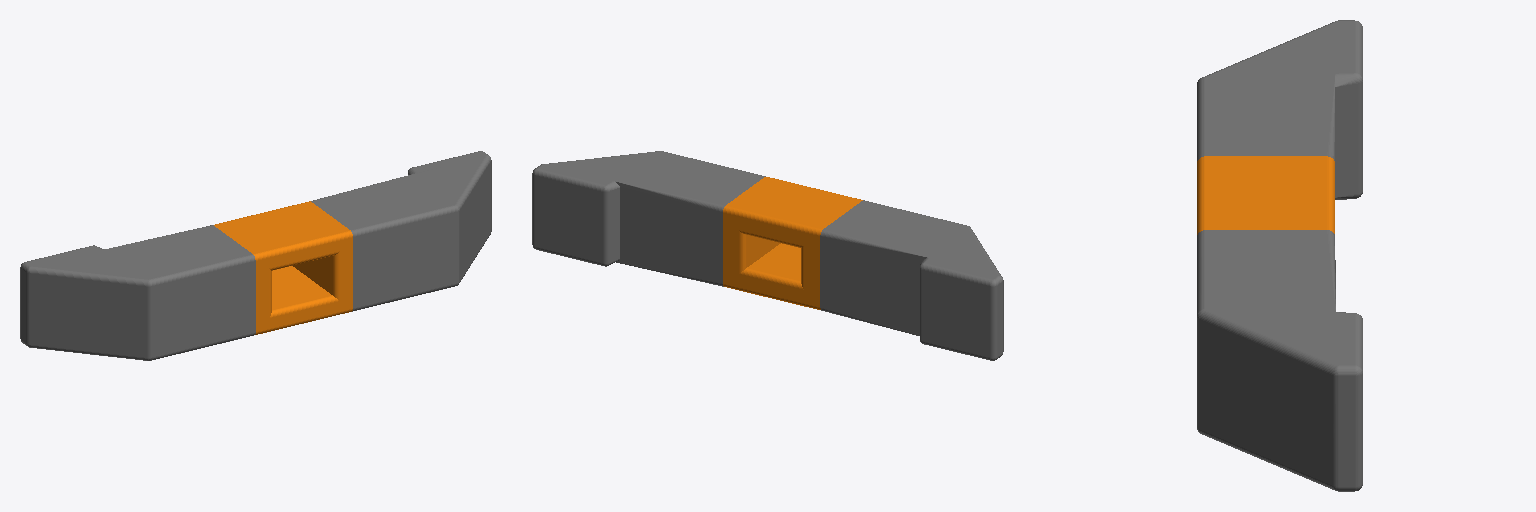
robot.urdf — beam_3x_0_sdf_hybrid_matchedmass:
<?xml version="1.0" encoding="utf-8"?>
<robot name="beam_3x_0_sdf_hybrid_matchedmass">
  <link name="base_link">
    <inertial>
      <!-- measured: 85.98 g -->
      <mass value="0.085980"/>
      <origin xyz="-0.000000 -0.000698 -0.000000" rpy="0 0 0"/>
      <inertia ixx="2.311025e-05" ixy="-4.274376e-12" ixz="-9.955234e-11" iyy="3.401606e-04" iyz="-9.553174e-13" izz="3.414929e-04"/>
    </inertial>
  </link>
  <material name="tip">
    <color rgba="0.95 0.55 0.10 1.0"/>
  </material>
  <material name="body">
    <color rgba="0.50 0.50 0.50 1.0"/>
  </material>
  <link name="tip_link">
    <visual>
      <origin xyz="0.000000 0.000000 0.000000" rpy="0.000000 0.000000 0.000000"/>
      <geometry>
        <mesh filename="0_tip.obj" scale="1 1 1"/>
      </geometry>
      <material name="tip"/>
    </visual>
    <collision>
      <origin xyz="0.000000 0.000000 0.000000" rpy="0.000000 0.000000 0.000000"/>
      <geometry>
        <mesh filename="0_tip.obj" scale="1 1 1"/>
      </geometry>
      <sdf resolution="256"/>
    </collision>
  </link>
  <joint name="base_to_tip" type="fixed">
    <parent link="base_link"/>
    <child link="tip_link"/>
    <origin xyz="0 0 0" rpy="0 0 0"/>
  </joint>
  <link name="body_link">
    <visual>
      <origin xyz="0.000000 0.000000 0.000000" rpy="0.000000 0.000000 0.000000"/>
      <geometry>
        <mesh filename="coacd/decomp_0.obj" scale="1 1 1"/>
      </geometry>
      <material name="body"/>
    </visual>
    <collision>
      <origin xyz="0.000000 0.000000 0.000000" rpy="0.000000 0.000000 0.000000"/>
      <geometry>
        <mesh filename="coacd/decomp_0.obj" scale="1 1 1"/>
      </geometry>
    </collision>
    <visual>
      <origin xyz="0.000000 0.000000 0.000000" rpy="0.000000 0.000000 0.000000"/>
      <geometry>
        <mesh filename="coacd/decomp_1.obj" scale="1 1 1"/>
      </geometry>
      <material name="body"/>
    </visual>
    <collision>
      <origin xyz="0.000000 0.000000 0.000000" rpy="0.000000 0.000000 0.000000"/>
      <geometry>
        <mesh filename="coacd/decomp_1.obj" scale="1 1 1"/>
      </geometry>
    </collision>
    <visual>
      <origin xyz="0.000000 0.000000 0.000000" rpy="0.000000 0.000000 0.000000"/>
      <geometry>
        <mesh filename="coacd/decomp_2.obj" scale="1 1 1"/>
      </geometry>
      <material name="body"/>
    </visual>
    <collision>
      <origin xyz="0.000000 0.000000 0.000000" rpy="0.000000 0.000000 0.000000"/>
      <geometry>
        <mesh filename="coacd/decomp_2.obj" scale="1 1 1"/>
      </geometry>
    </collision>
    <visual>
      <origin xyz="0.000000 0.000000 0.000000" rpy="0.000000 0.000000 0.000000"/>
      <geometry>
        <mesh filename="coacd/decomp_3.obj" scale="1 1 1"/>
      </geometry>
      <material name="body"/>
    </visual>
    <collision>
      <origin xyz="0.000000 0.000000 0.000000" rpy="0.000000 0.000000 0.000000"/>
      <geometry>
        <mesh filename="coacd/decomp_3.obj" scale="1 1 1"/>
      </geometry>
    </collision>
  </link>
  <joint name="base_to_body" type="fixed">
    <parent link="base_link"/>
    <child link="body_link"/>
    <origin xyz="0 0 0" rpy="0 0 0"/>
  </joint>
</robot>

--- Render facts (derived) ---
Views: 3 orthographic renders of the robot side by side, from view 1: azimuth 30°, elevation 25°; view 2: azimuth 150°, elevation 25°; view 3: azimuth 270°, elevation 25°.
Model beam_3x_0_sdf_hybrid_matchedmass with 3 links and 2 joints (2 fixed), rooted at base_link, posed every joint at zero.
Links seen in each view (by area): view 1: body_link, tip_link; view 2: body_link, tip_link; view 3: body_link, tip_link.
Boxes of the visible links, <box> form: body_link: <box>20,151,491,360</box>; tip_link: <box>214,201,352,334</box>; body_link: <box>532,151,1003,360</box>; tip_link: <box>723,177,862,309</box>; body_link: <box>1197,20,1362,491</box>; tip_link: <box>1197,156,1334,234</box>.
Bounding box of the posed robot: 0.2286 × 0.0457 × 0.0381 m (x, y, z).
Meshes: 5 distinct files referenced, 5 mesh visuals loaded (5 OBJ).
